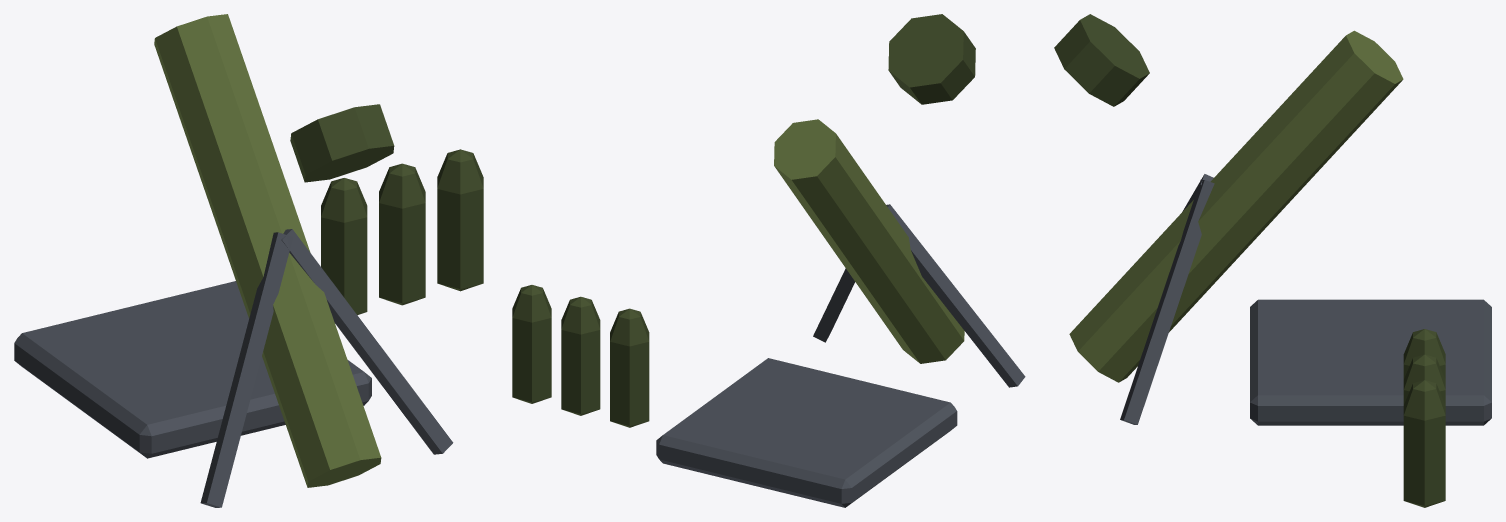
File: Mortar.fbx
The picture shows the model from 3 angles, left to right: view 1: azimuth 30°, elevation 25°; view 2: azimuth 150°, elevation 25°; view 3: azimuth 270°, elevation 25°; orthographic projection. The views are drawn at different scales.
Visible parts, largest first — view 1: Mortar, Mortar_Tube; view 2: Mortar, Mortar_Tube; view 3: Mortar, Mortar_Tube.
Part boxes in pixels (left/top/right/bottom): Mortar: left=14, top=149, right=483, bottom=507; Mortar_Tube: left=154, top=14, right=394, bottom=487; Mortar: left=512, top=204, right=1025, bottom=507; Mortar_Tube: left=774, top=14, right=975, bottom=363; Mortar: left=1120, top=174, right=1491, bottom=507; Mortar_Tube: left=1054, top=14, right=1403, bottom=382.
Size of the model in its own units: 3.43 by 2.94 by 3.26.
Materials: 1 (1 with a texture image).
